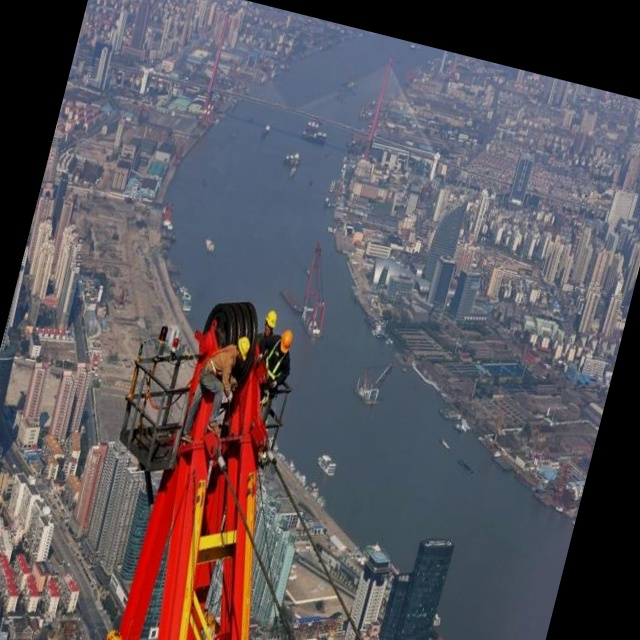Con_Casco: (276, 326, 296, 358), (260, 308, 279, 339), (232, 334, 251, 364)
